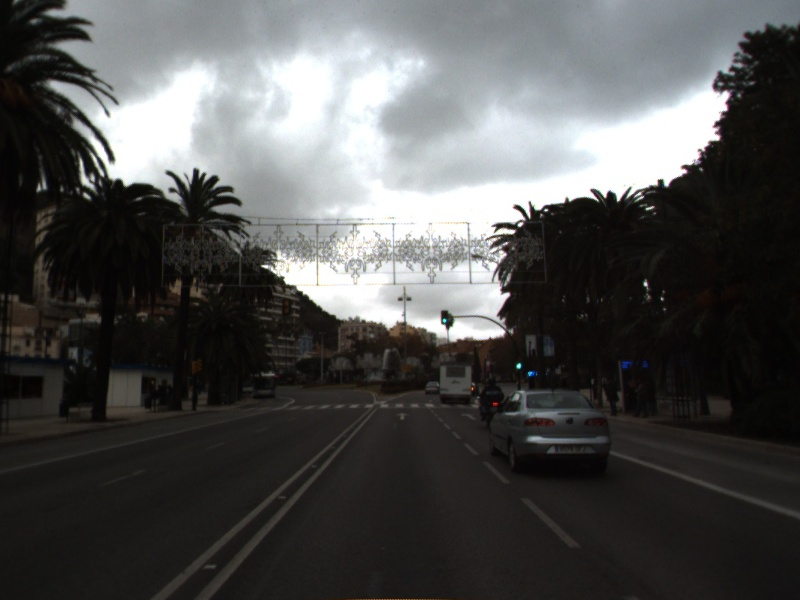STRAIGHT: (459, 411, 480, 422), (393, 410, 411, 422)
